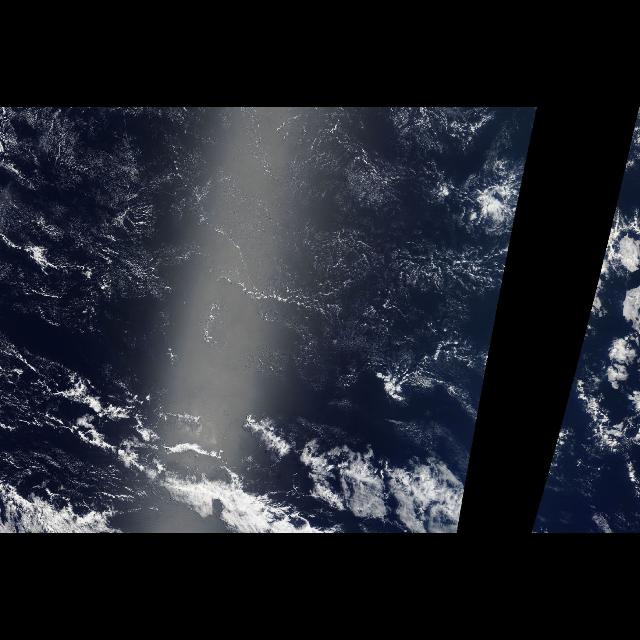Sugar: (66, 115, 428, 338)
